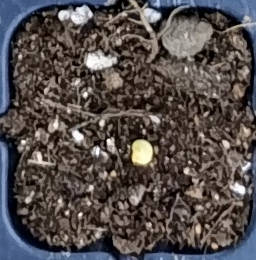pepper seed: (54, 56, 208, 222)
